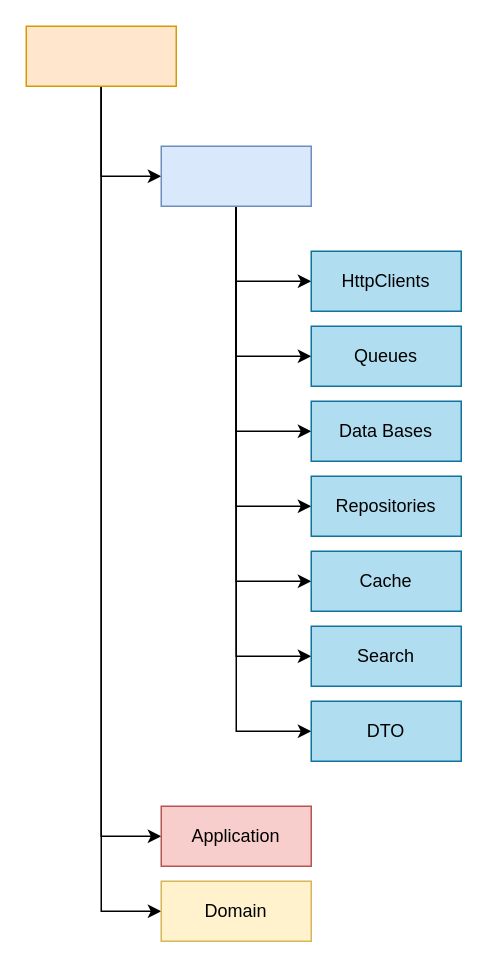
Some shapes in this 488 by 968 pixel diagram are drawn without their labels. Each missing label, with the centre of its shape:
"Entity" goes at [100,55].
"Infrastructure" goes at [235,175].
